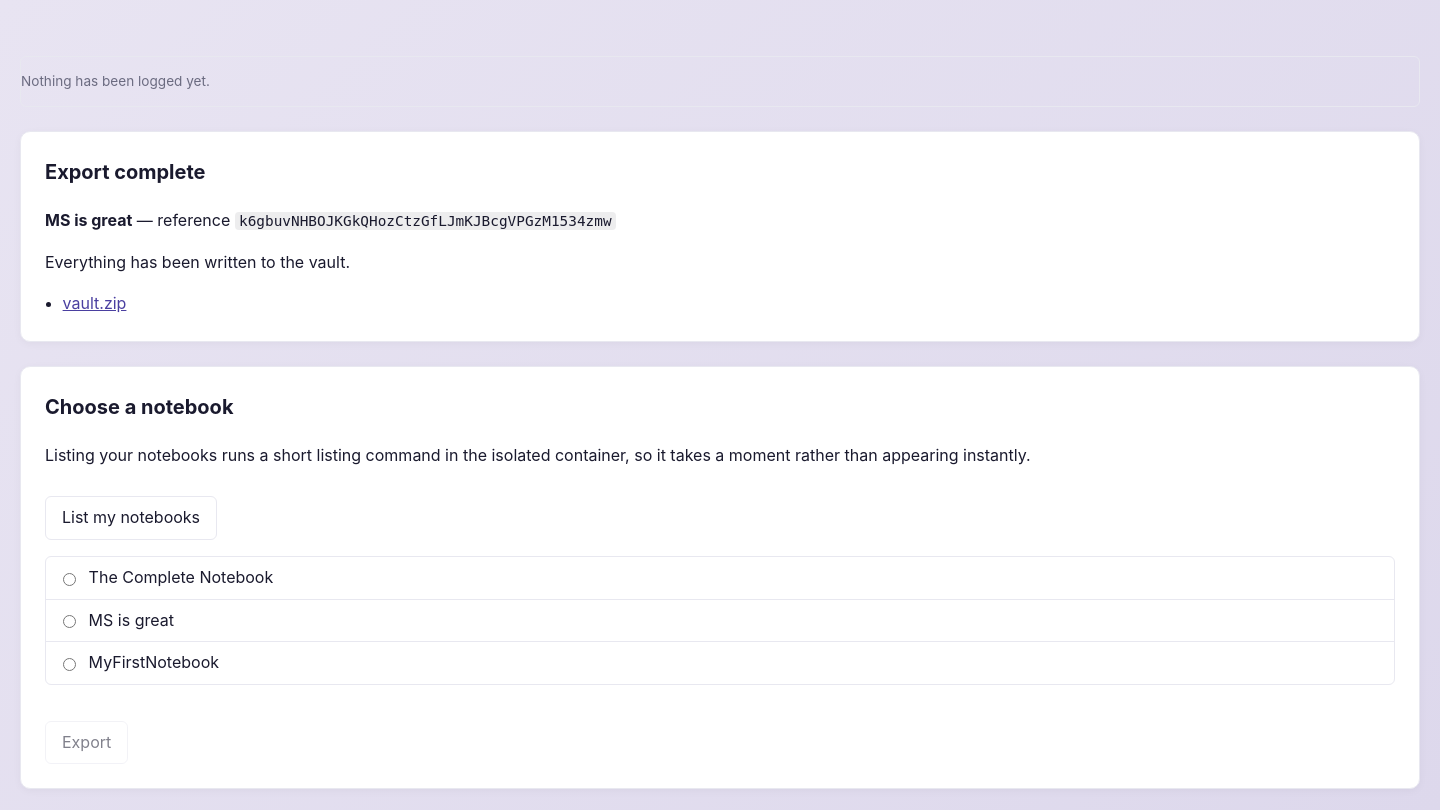
after an export finishes, the user can export another notebook › clears the selection as the export is handed off
Step 1. Click the radio button labelled "MS is great" → point(70, 622), box [63, 615, 76, 628]
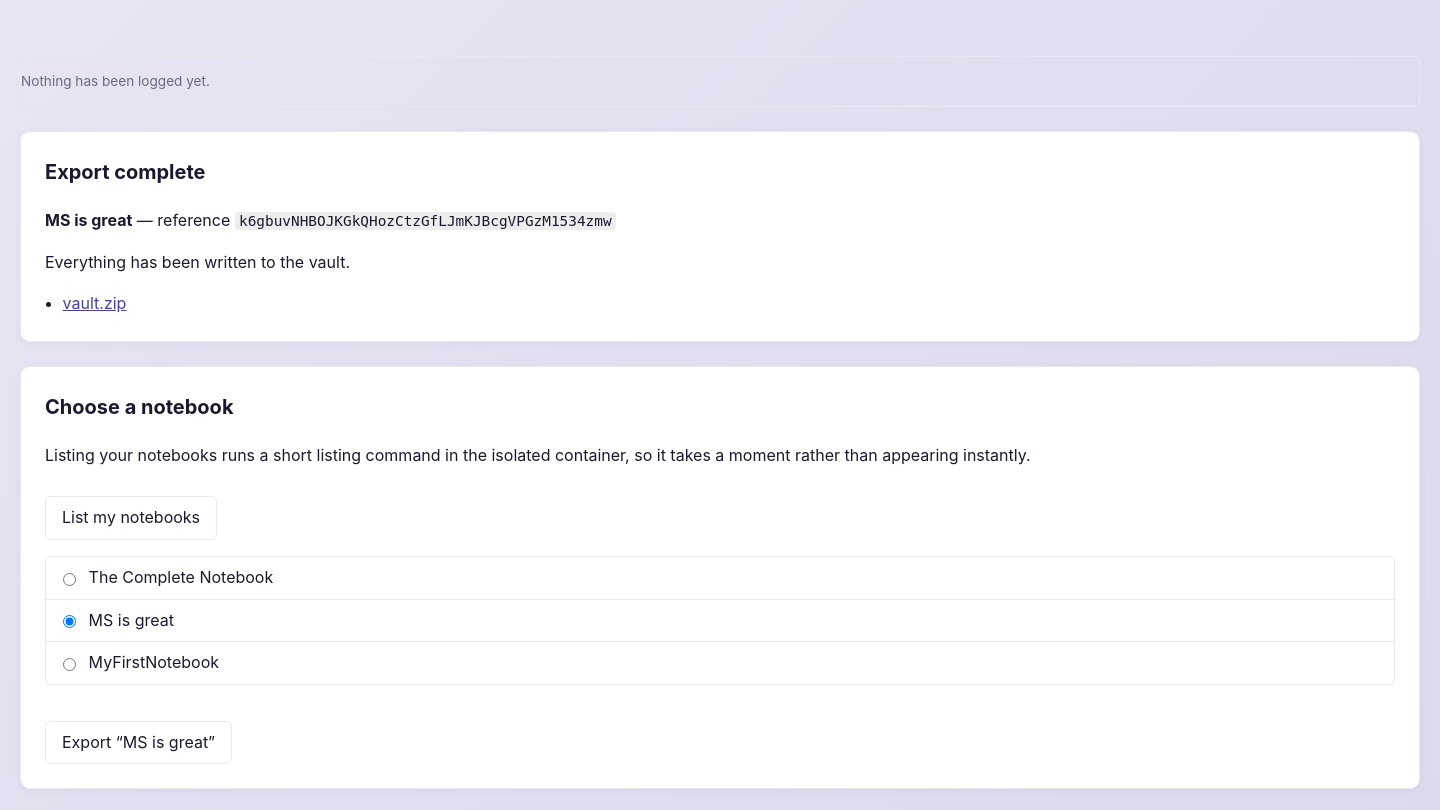
Step 2. Click the button "Export “MS is great”" → point(139, 742), box [45, 721, 232, 764]
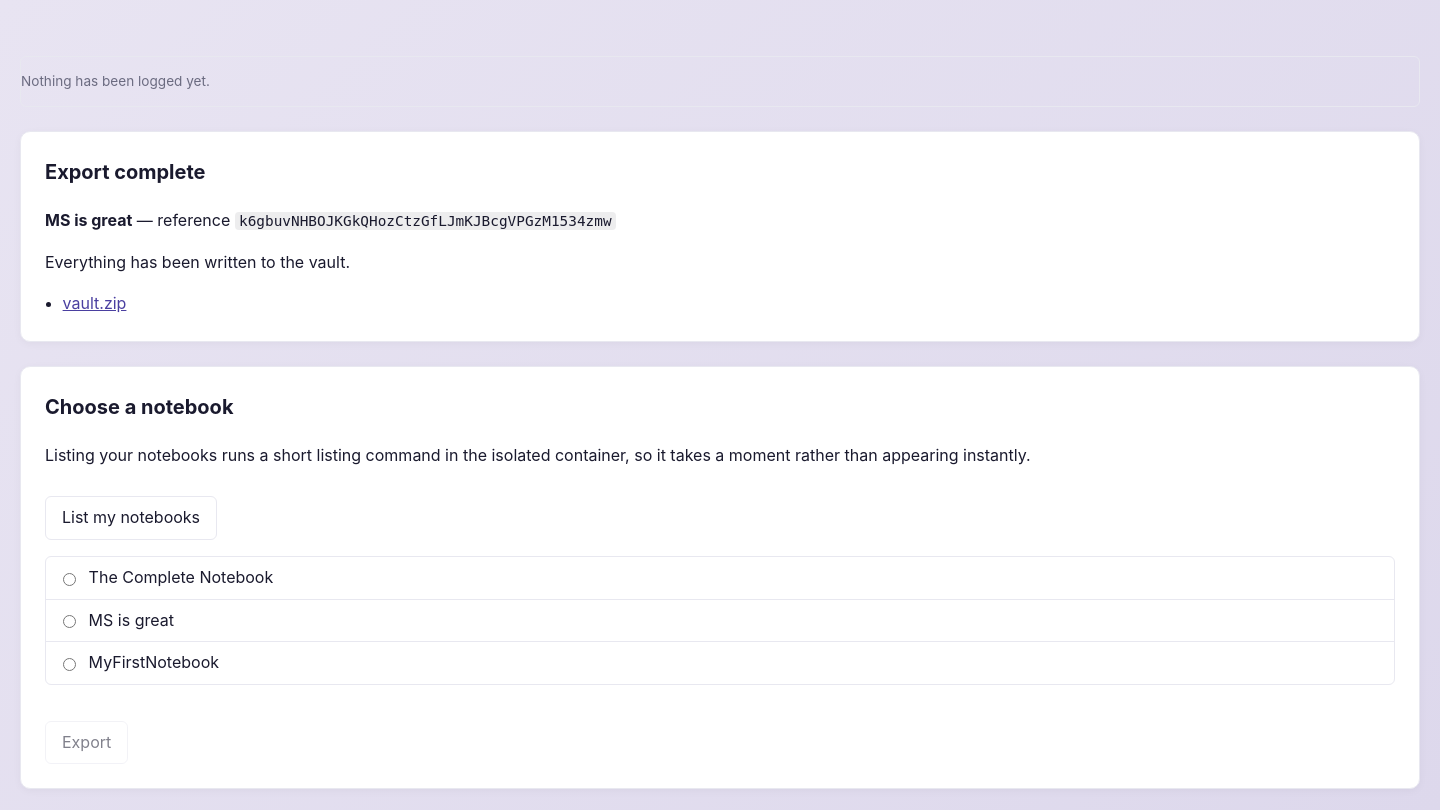
expect the button "Export" is disabled: met, box [45, 721, 128, 764]
